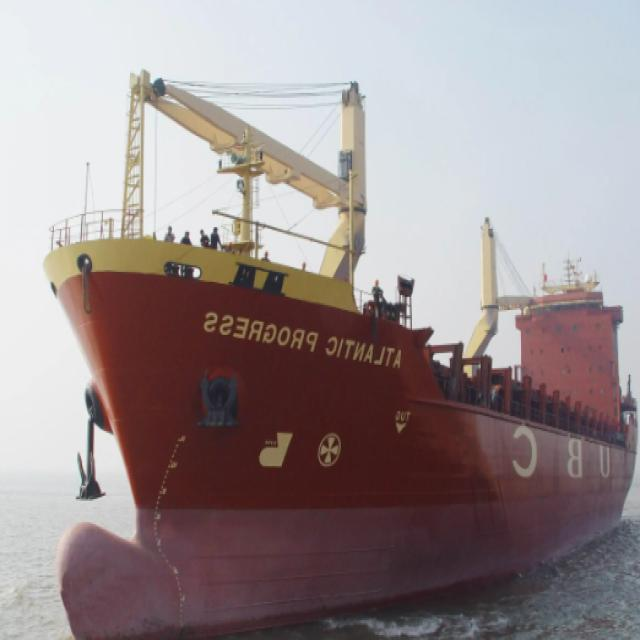cargoship: (35, 64, 638, 640)
